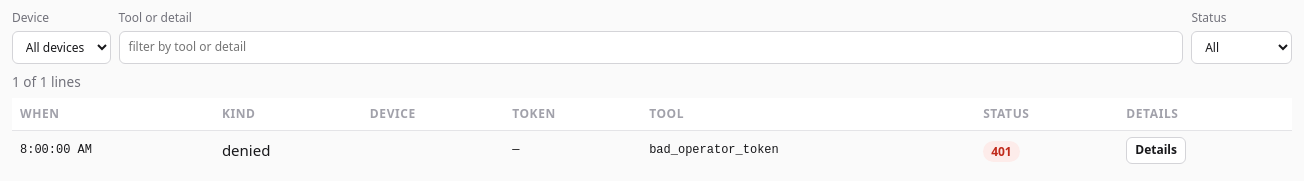
it: AuditTable › names the caller's log when a filter matches nothing
Type "no-such-detail" into the search field labelled "Tool or detail" at (651, 47), box x1=119 y1=31 x2=1183 y2=64
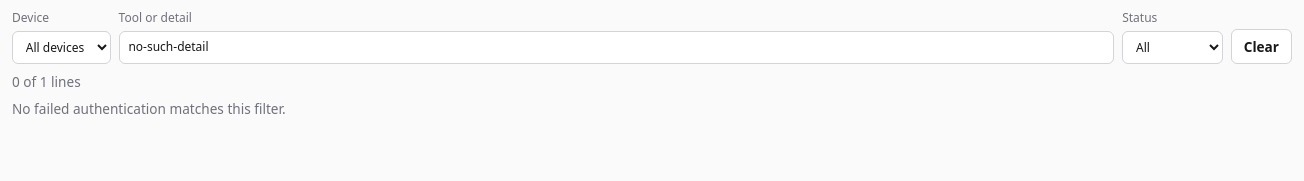
Check: the text "No failed authentication matches this filter." is shown, box x1=12 y1=99 x2=286 y2=118
